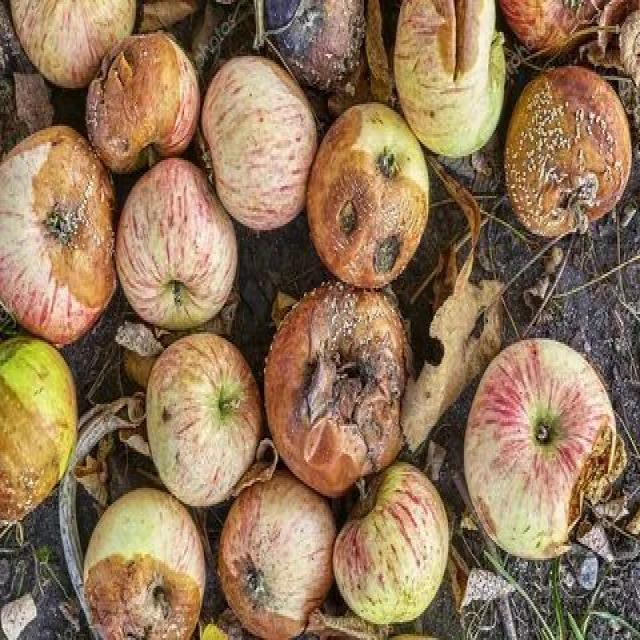Rotten: (0, 132, 120, 345), (275, 292, 408, 478), (495, 70, 633, 235), (76, 493, 204, 640), (312, 113, 426, 277), (213, 475, 335, 625), (122, 165, 238, 322), (145, 336, 258, 492), (76, 35, 192, 165)
